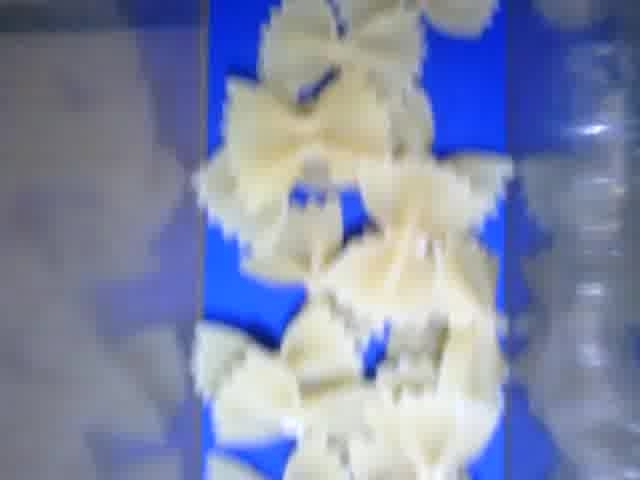farfalle: (331, 160, 471, 327), (226, 74, 393, 205), (213, 345, 380, 447), (260, 1, 425, 101)
